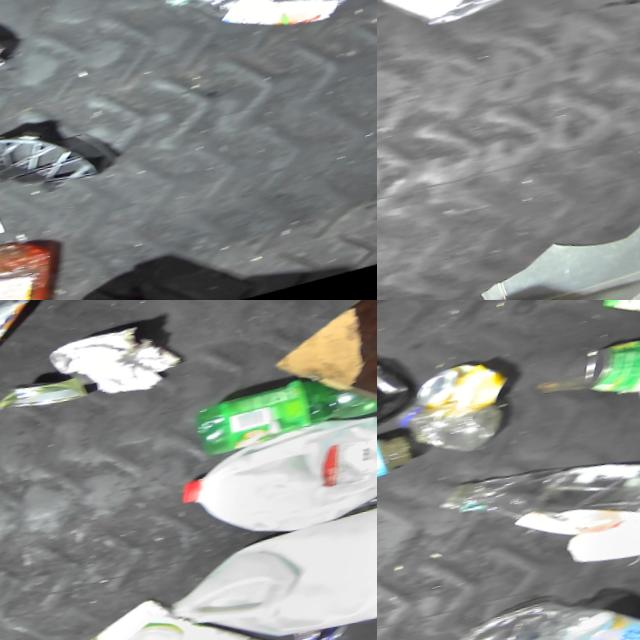can: (0, 368, 97, 421), (583, 338, 640, 418)
milk_jug: (162, 404, 377, 563), (159, 508, 377, 640)
plastic_bottle: (437, 439, 640, 580), (148, 0, 375, 73), (539, 592, 640, 640), (0, 300, 31, 387)
